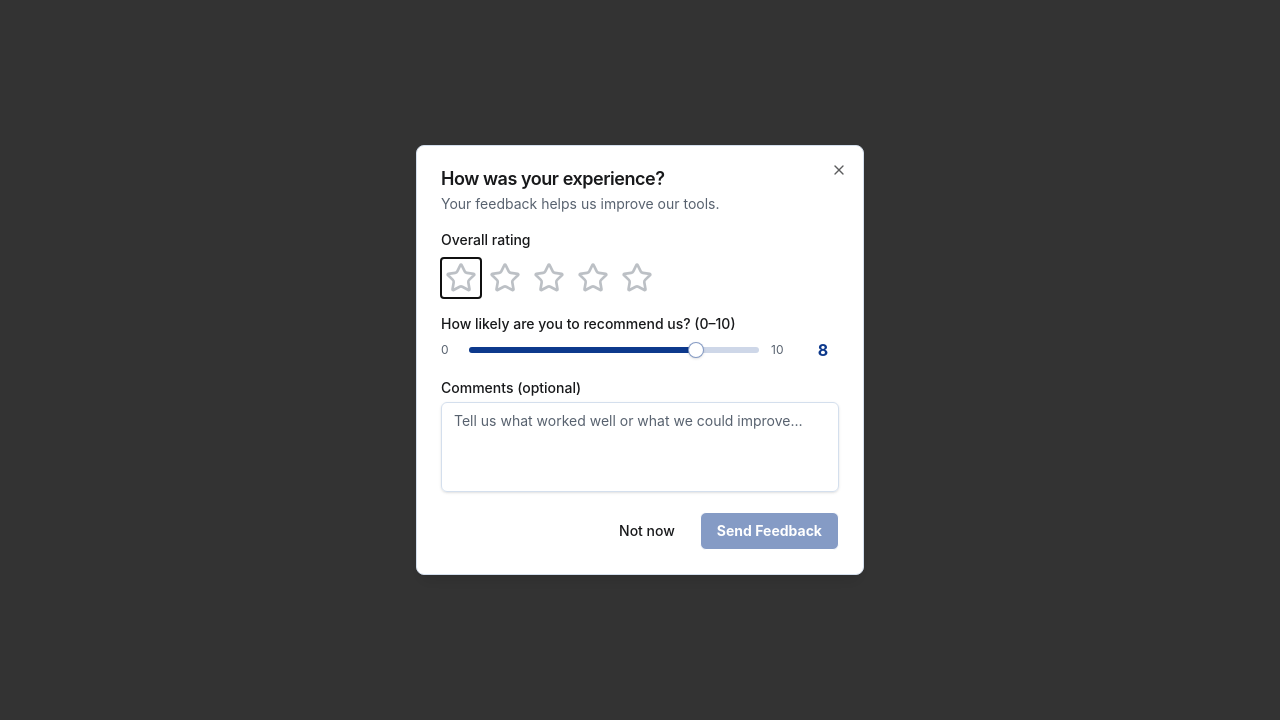
FeedbackModal countdown — real hook, deferred status response › re-extends the countdown if the server still reports limited after local expiry
Click the button with test id "star-3": (549, 278) [529,258,569,298]
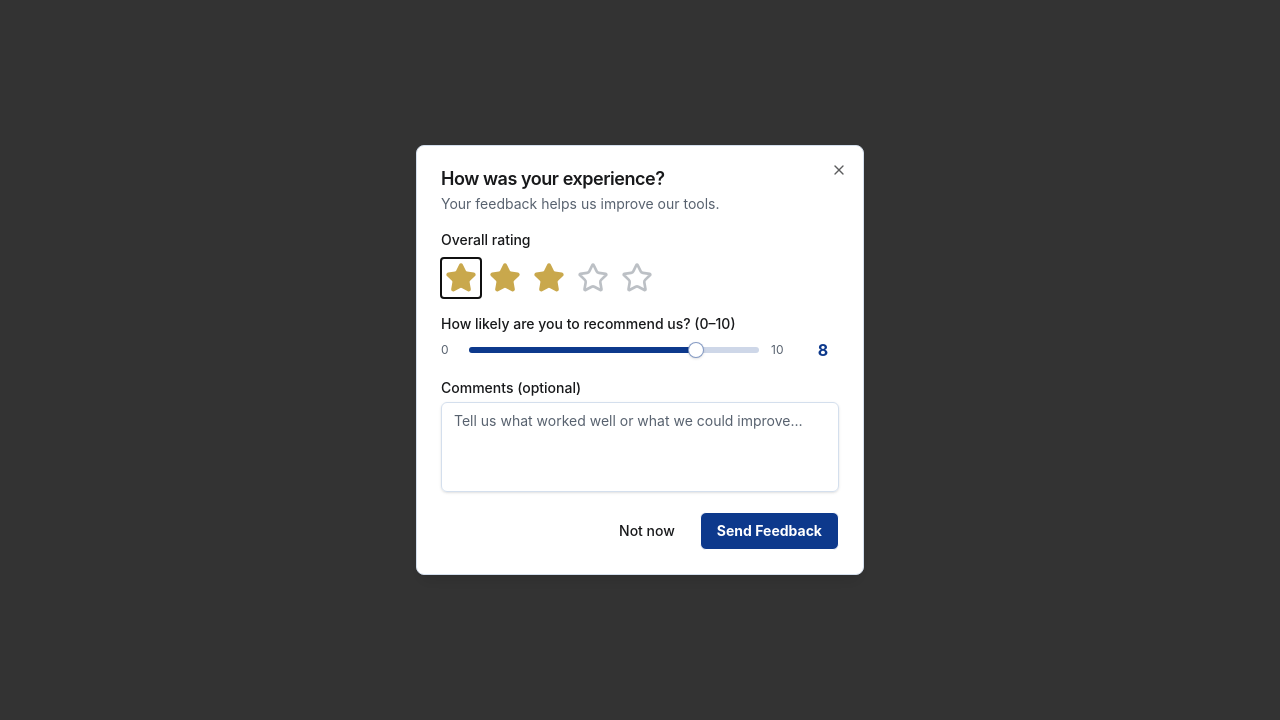
Click the button with test id "button-feedback-submit": (769, 531) [700,512,839,550]
Wait 1100 ms
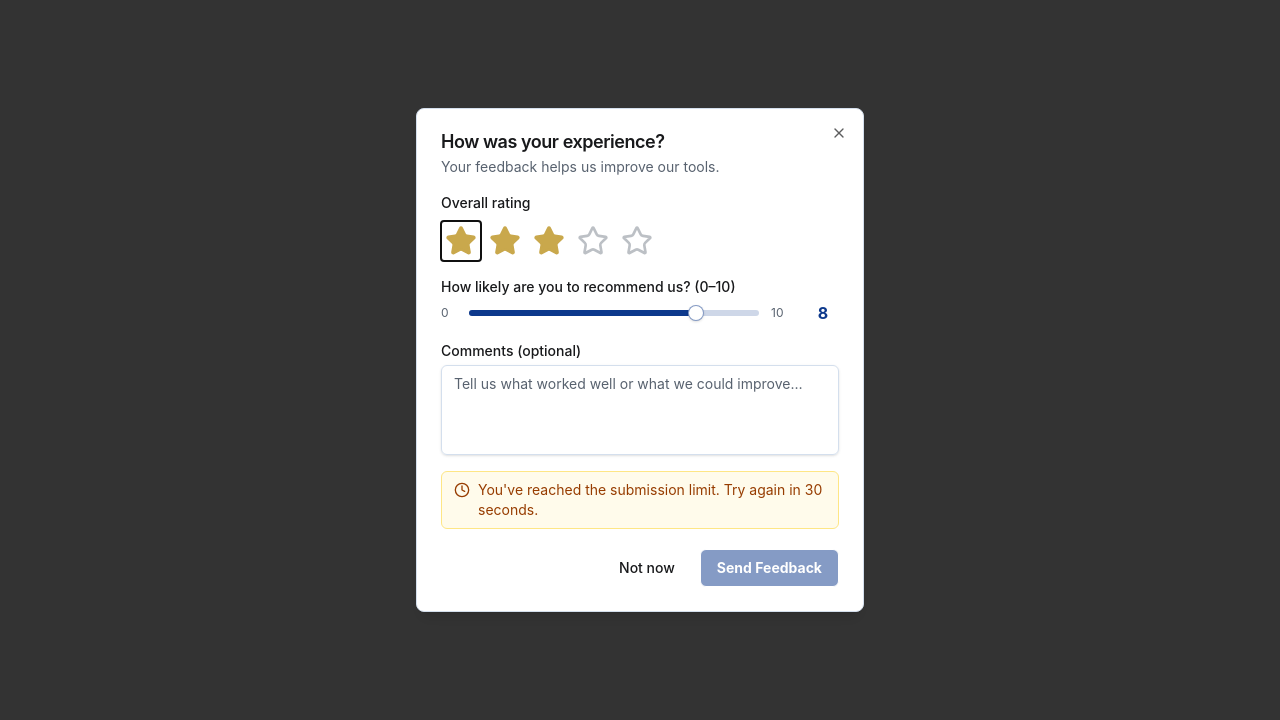
Now the button with test id "button-feedback-submit" is disabled, box [700,549,839,587]
